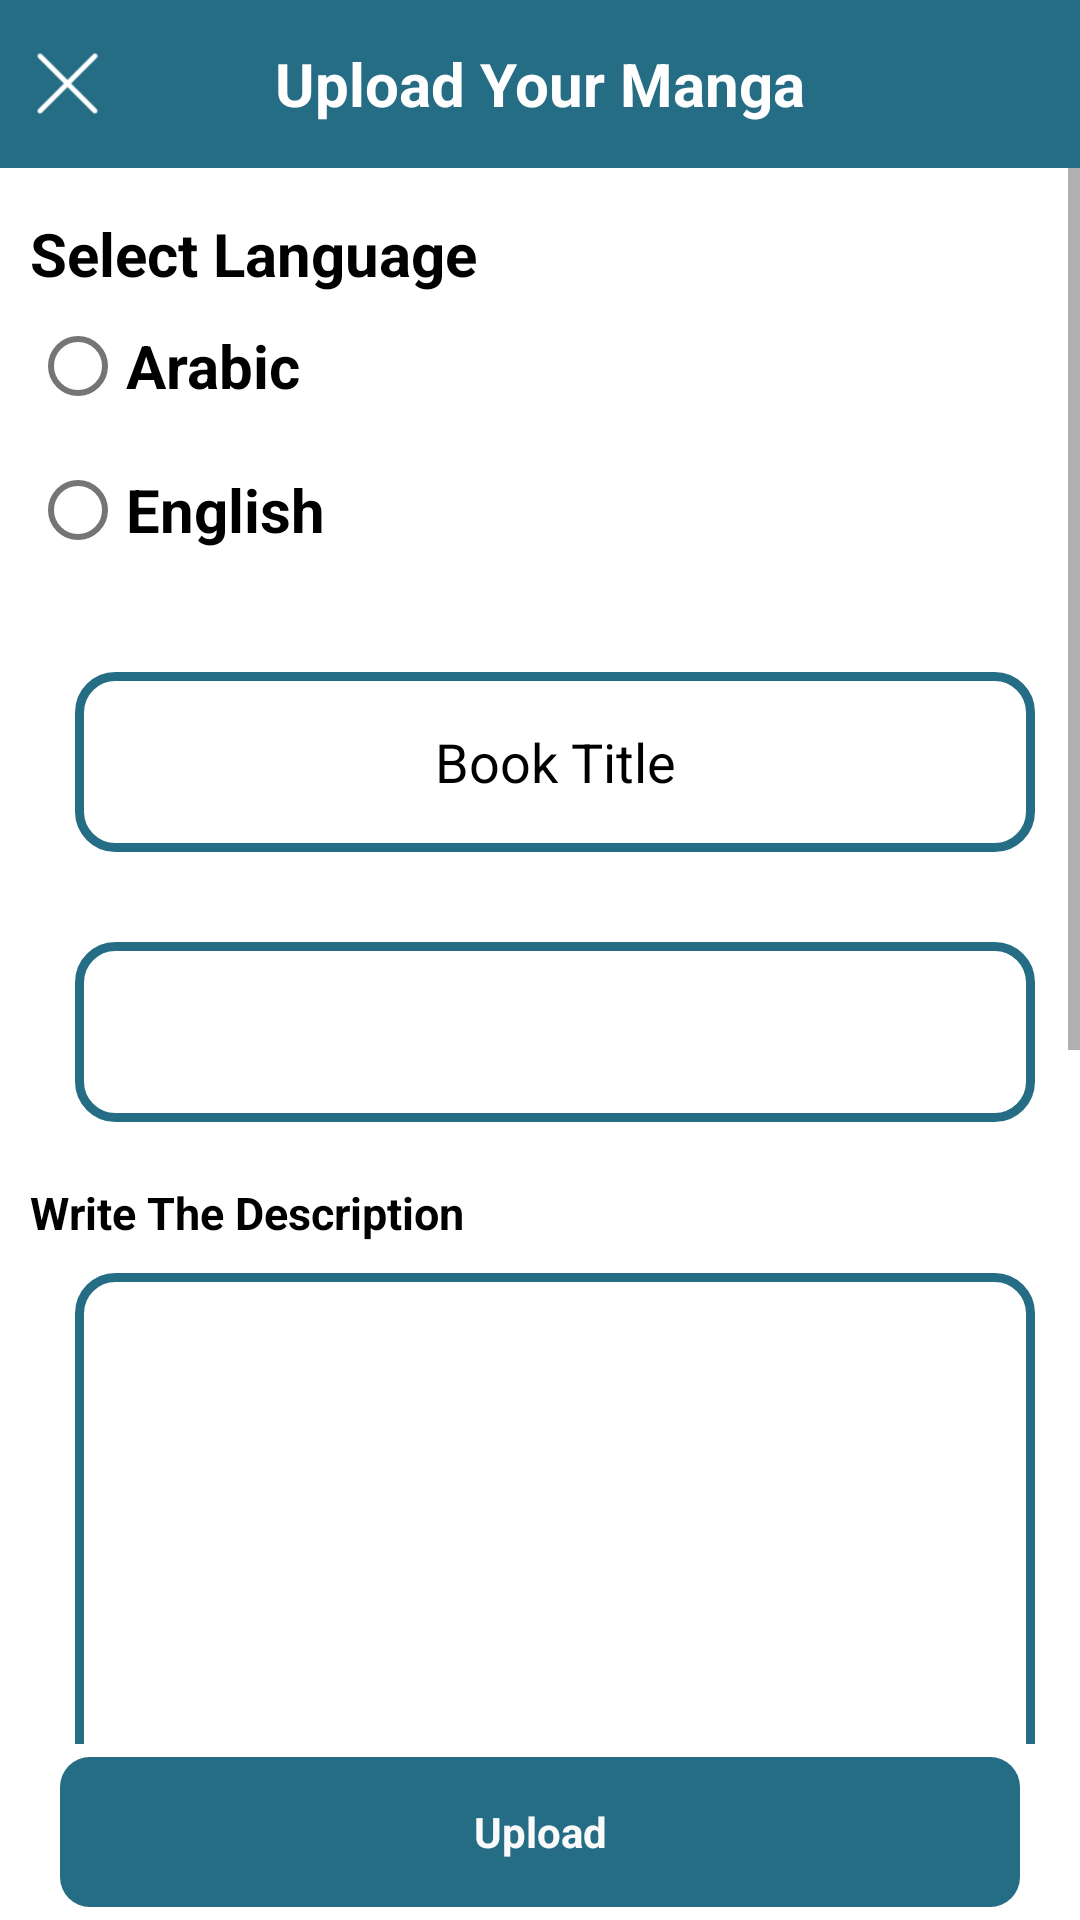

Icons on this 1080w x 1920h Android screen, each with the point to tap as (x,y):
cancel: (67,83)
